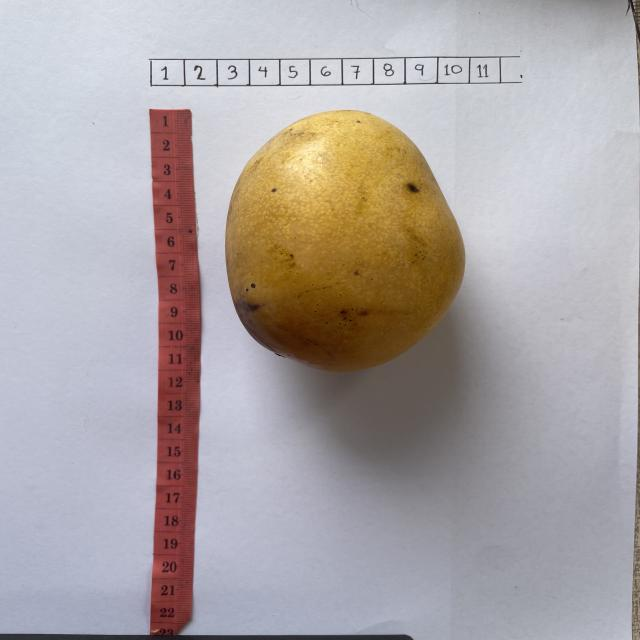Ripe: (224, 109, 467, 375)
